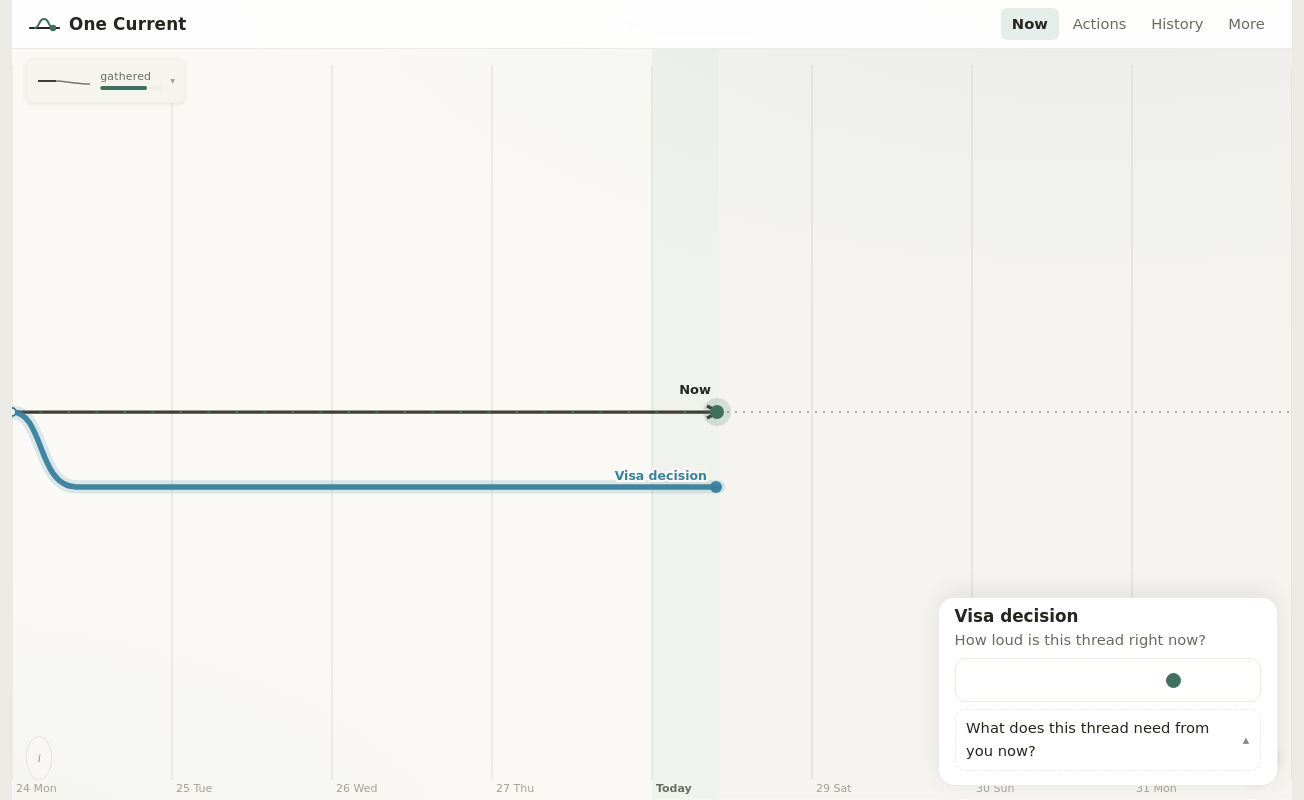
Test: app flows › eases a line you can do nothing about, without entering merge
Click the button "What does this thread need from you now? ▴" at (1088,728), box [955,709,1261,771]
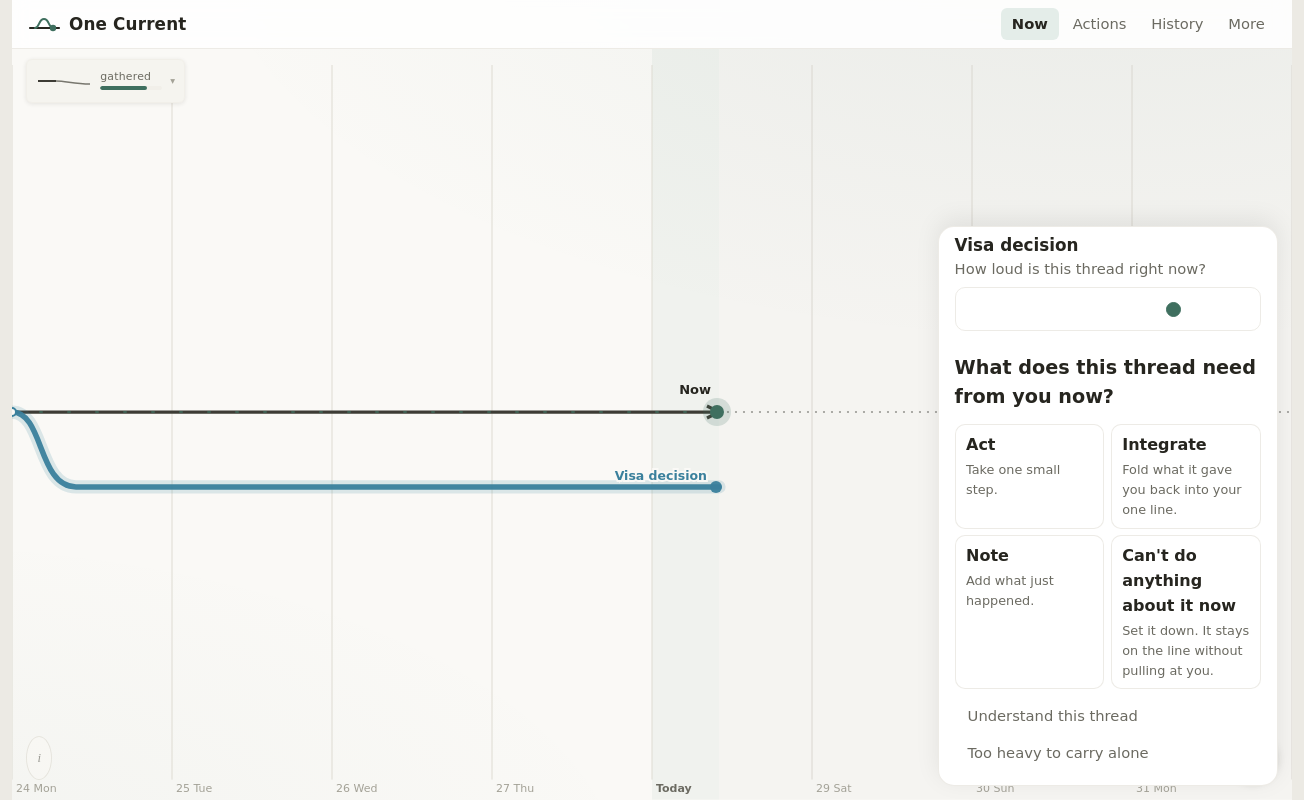
Click the button "Can't do anything about it now" at (1186,612), box [1111,535,1261,690]
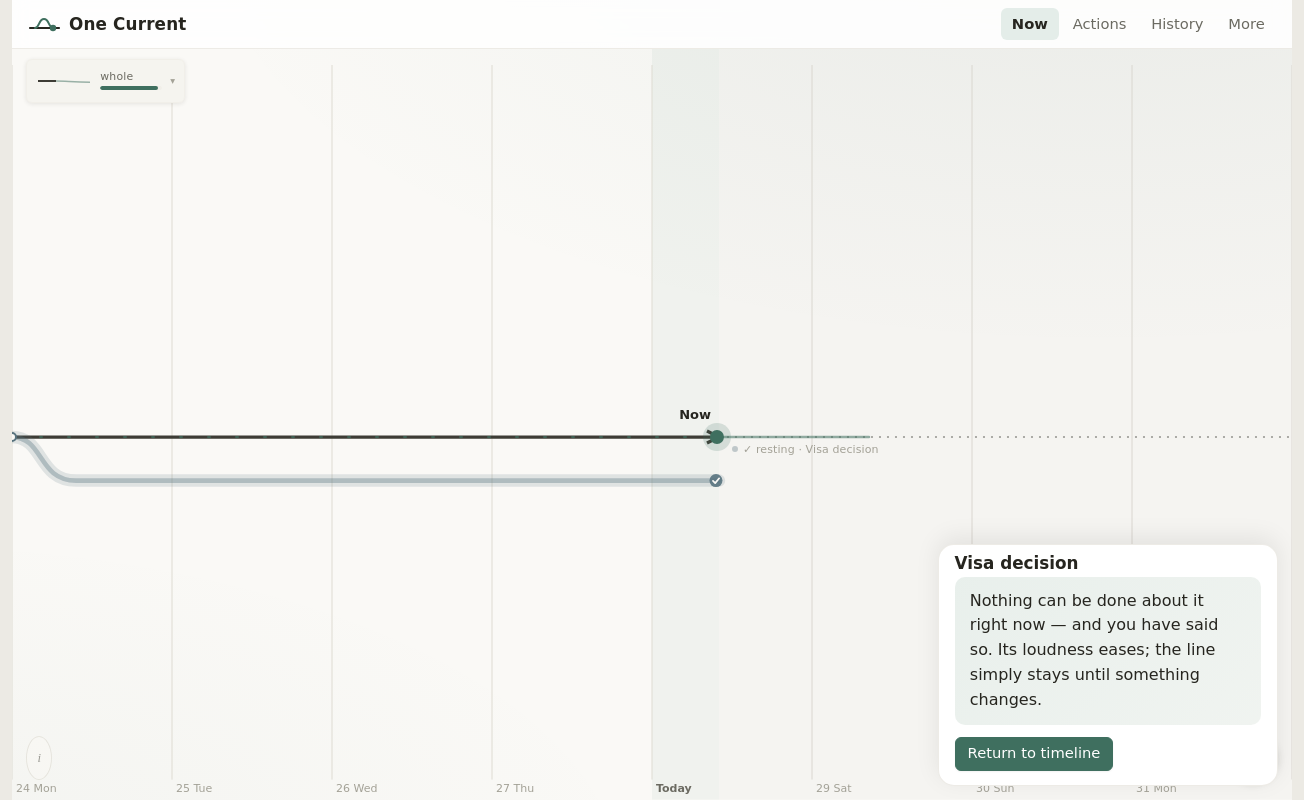
Check: the text "Nothing can be done about it right now" is shown, box [970,591,1218,709]
